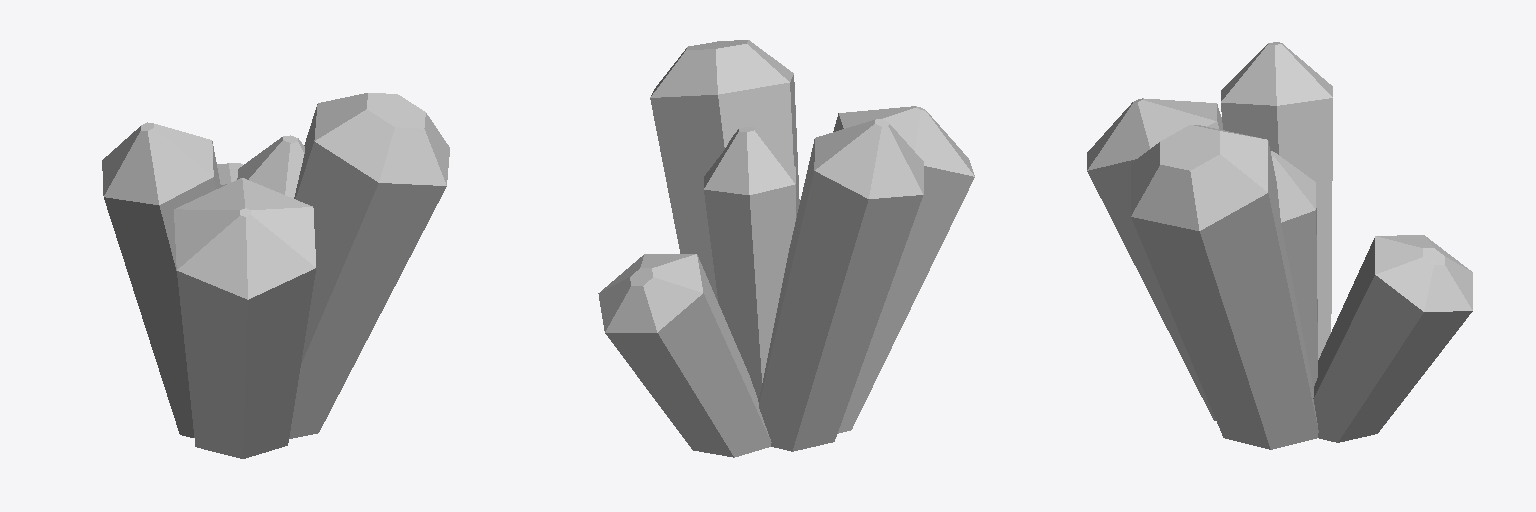
Rendered from watercrystal.obj.
3 views of the same model, side by side, from view 1: azimuth 30°, elevation 25°; view 2: azimuth 150°, elevation 25°; view 3: azimuth 270°, elevation 25° (orthographic).
Visible parts, largest first — view 1: Crystal_Customizer3; view 2: Crystal_Customizer3; view 3: Crystal_Customizer3.
Boxes of the visible parts, x1=… form: Crystal_Customizer3: x1=102, y1=93, x2=449, y2=458; Crystal_Customizer3: x1=598, y1=40, x2=974, y2=457; Crystal_Customizer3: x1=1087, y1=42, x2=1472, y2=449.
Size of the model in its own units: 0.6556 by 0.6717 by 0.7112.